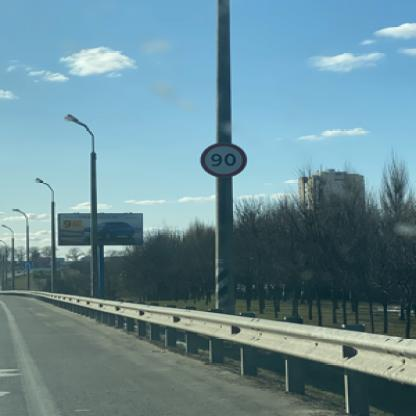Speed Limit 90: (199, 142, 247, 178)
